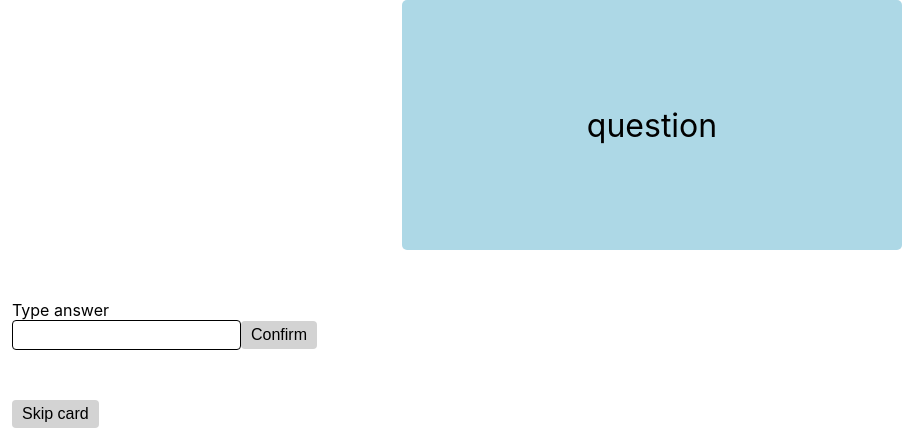
Test: AppPracticing › clicking on card correctly toggles between displaying question and answer
Click the text "question" at (652, 125), box top-left (402, 0), bottom-right (902, 250)
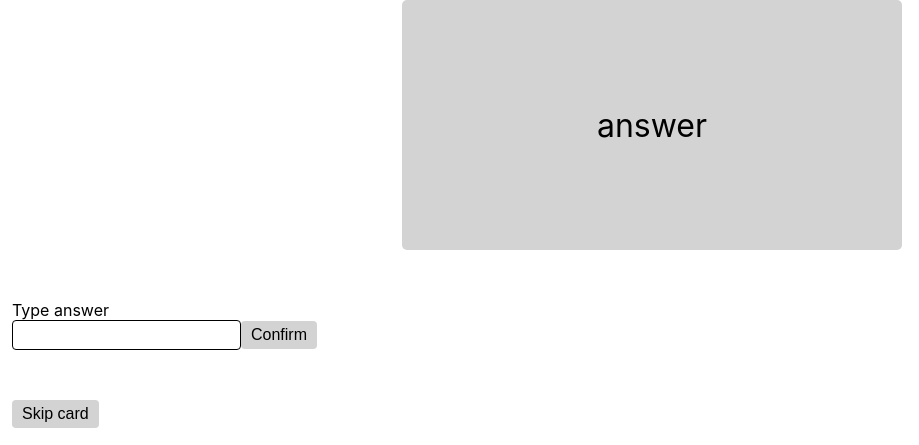
Check: the text "question" reads "answer", box top-left (597, 106), bottom-right (707, 144)
Click the text "question" at (652, 125), box top-left (402, 0), bottom-right (902, 250)
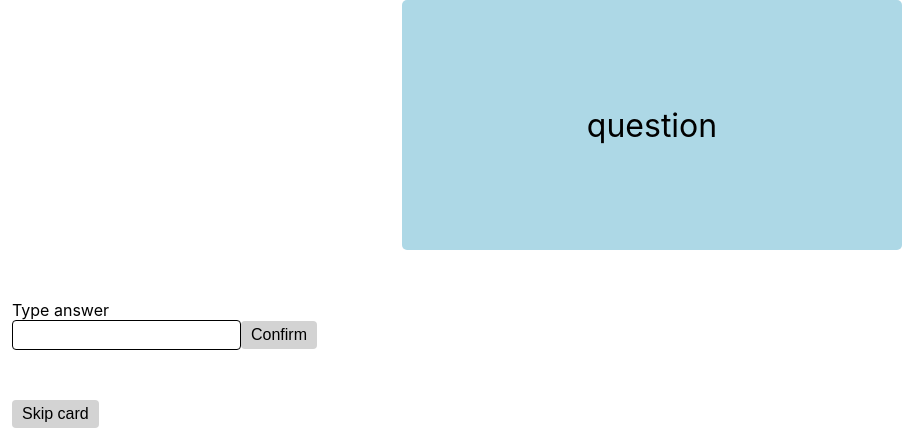
Check: the text "question" is shown, box top-left (402, 0), bottom-right (902, 250)
